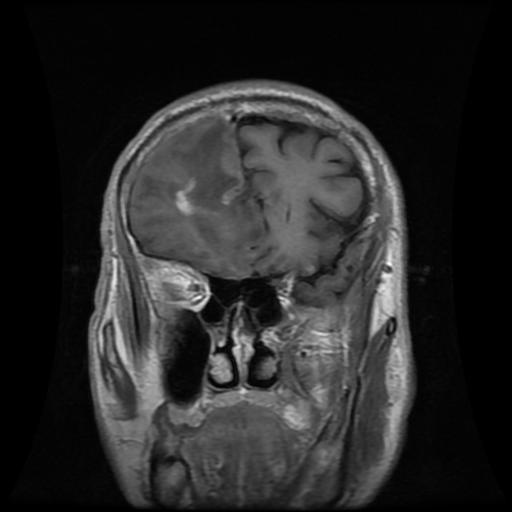Gliomia_tumour: (131, 119, 268, 276)
